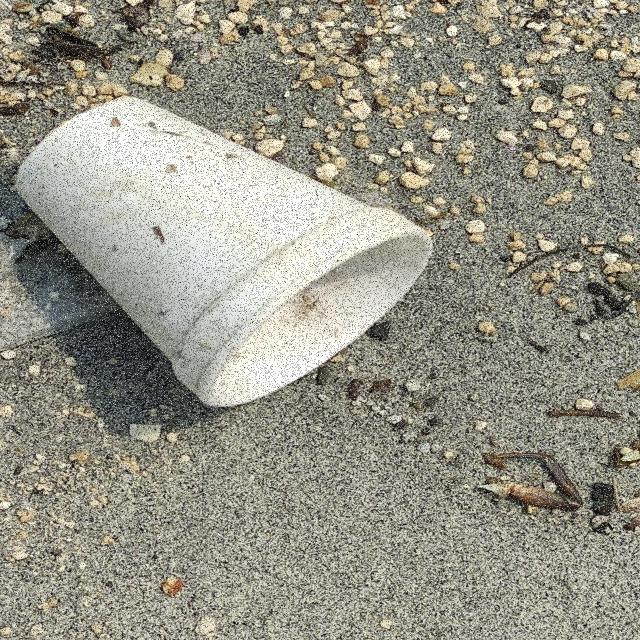styrofoam_waste: (17, 98, 435, 410)
